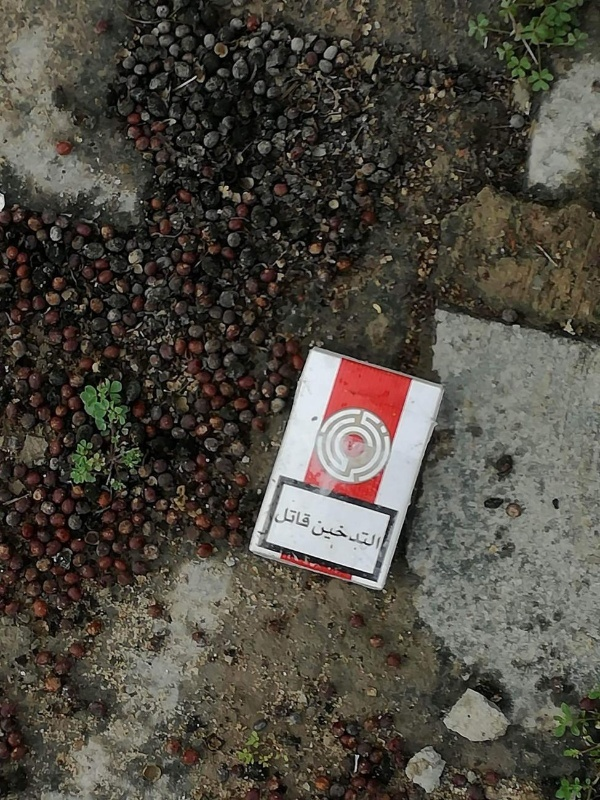text: (321, 519, 336, 550), (337, 519, 352, 550), (353, 519, 368, 550), (369, 519, 382, 550), (289, 506, 304, 531), (279, 506, 288, 531), (314, 519, 320, 550), (305, 506, 311, 531)
